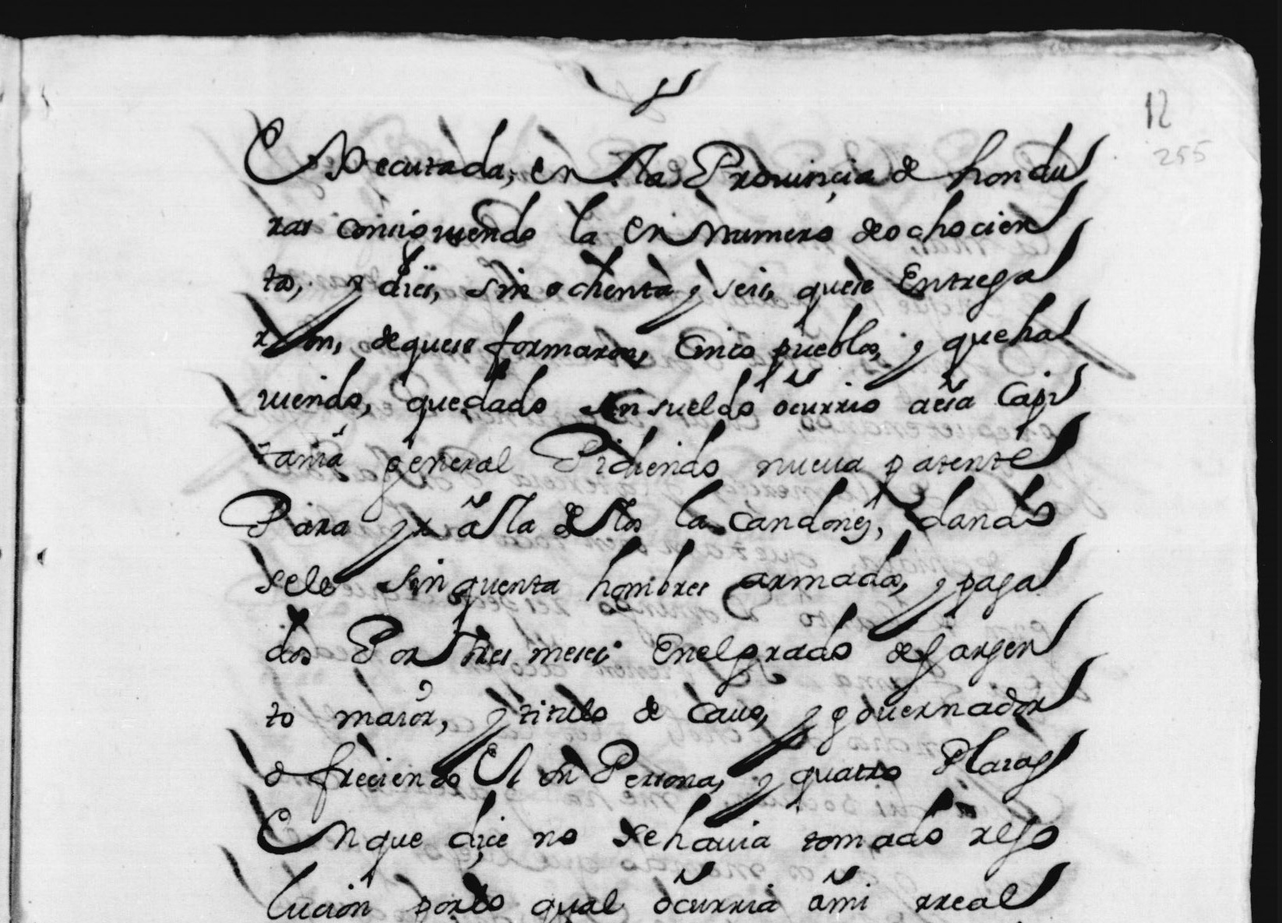lacandon: (674, 476, 871, 544)
